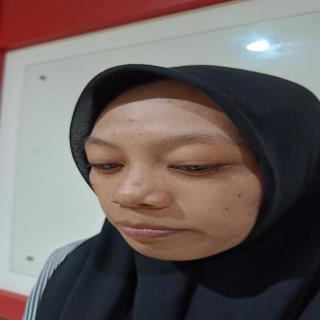Sedih: (80, 66, 296, 265)
